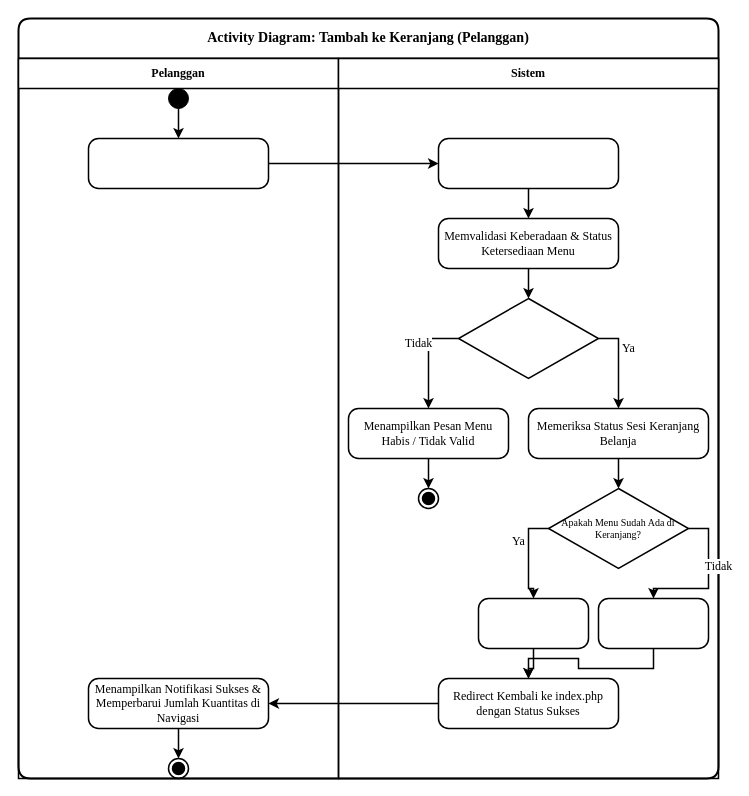
This 749x796 diagram has some shape labels left out. The shapes that lost their labels are listed below. From the top down, each one's box as (x1, y1, x2, y2) in pixels, then its label:
(87, 137, 269, 189): Mengeklik Tombol + Tambah ke Keranjang
(437, 137, 619, 189): Mengirim Permintaan GET dengan ID Menu
(457, 297, 599, 379): Apakah Menu Tersedia?
(477, 597, 589, 649): Menambah Jumlah Porsi Menu (+1)
(597, 597, 709, 649): Menambahkan Menu ke Keranjang dengan Kuantitas 1
